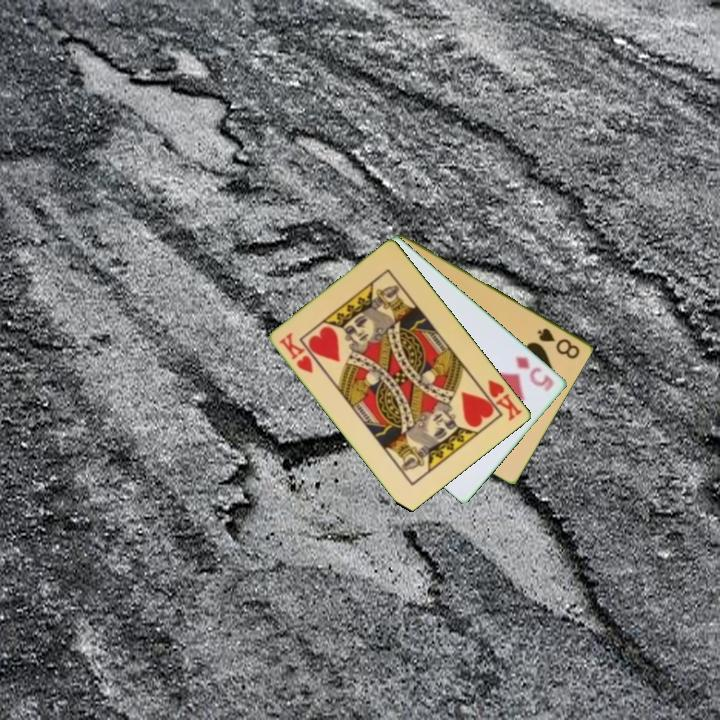5d: (512, 352, 557, 394)
8s: (534, 324, 583, 362)
Kh: (476, 376, 525, 424), (276, 329, 317, 376)
